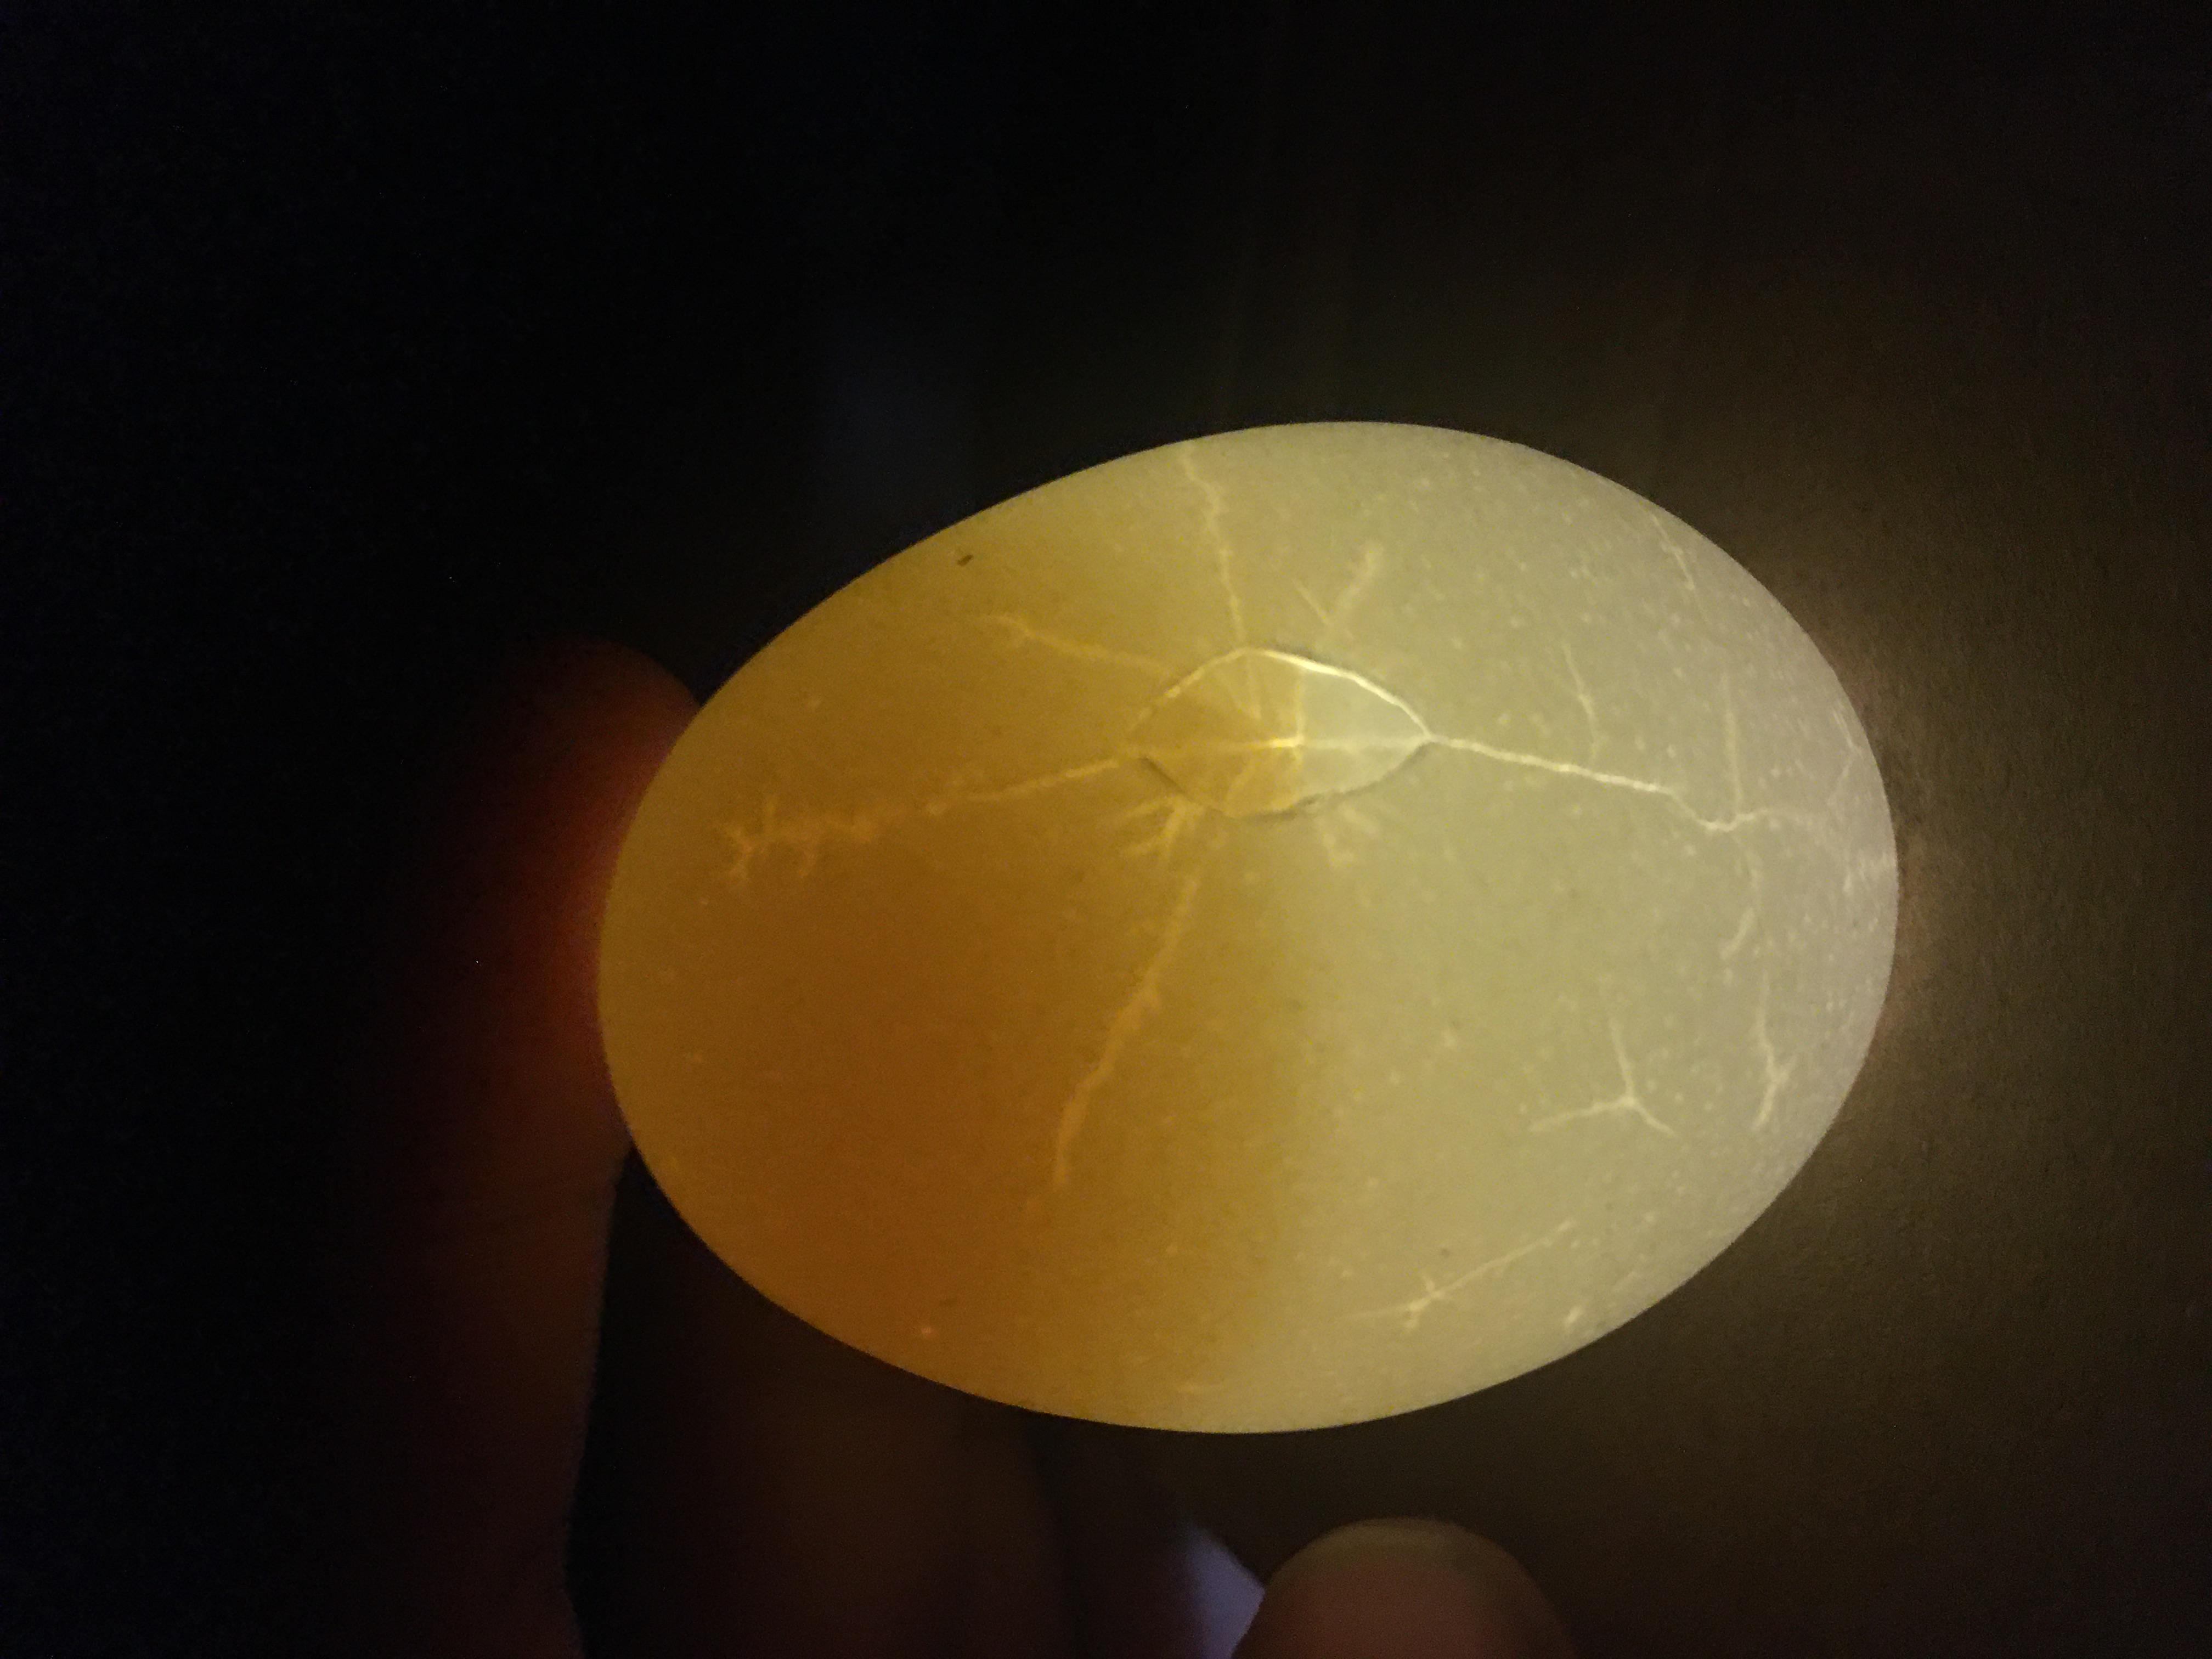B - Fair: (281, 420, 1661, 1432)
